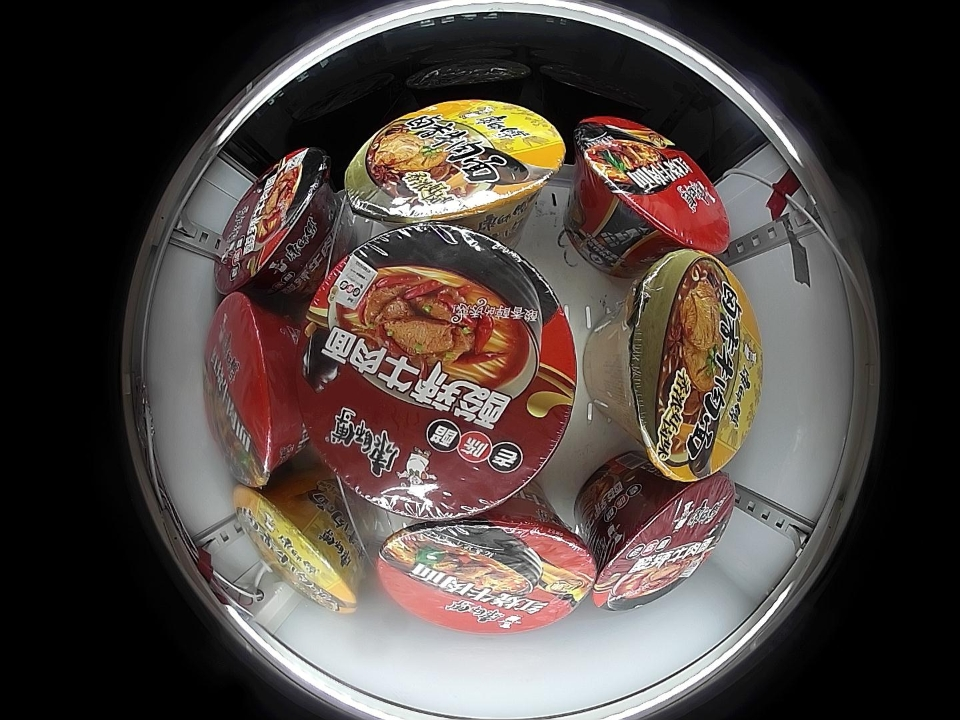hongshaoniurou: (375, 516, 597, 634), (572, 114, 730, 254), (206, 293, 301, 485)
luxiangniurou: (613, 248, 761, 481), (344, 99, 566, 226), (234, 482, 361, 615)
suanlaniurou: (297, 224, 579, 519), (590, 476, 736, 612), (214, 146, 334, 293)
